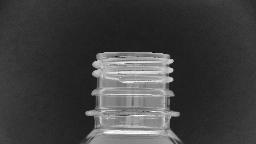No Cap: (78, 48, 186, 120)
